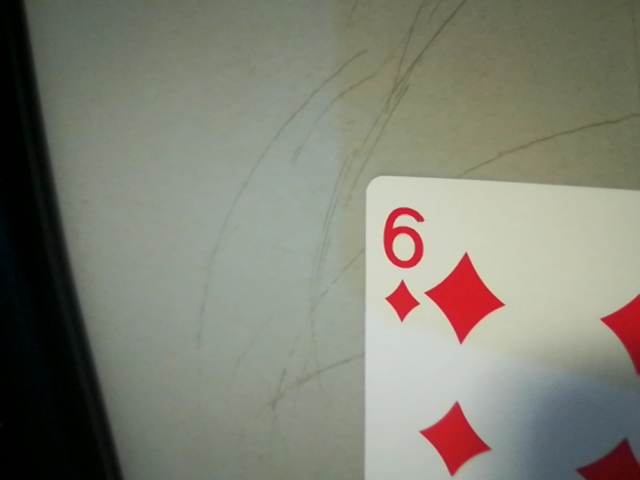fk 6: (372, 199, 434, 327)
